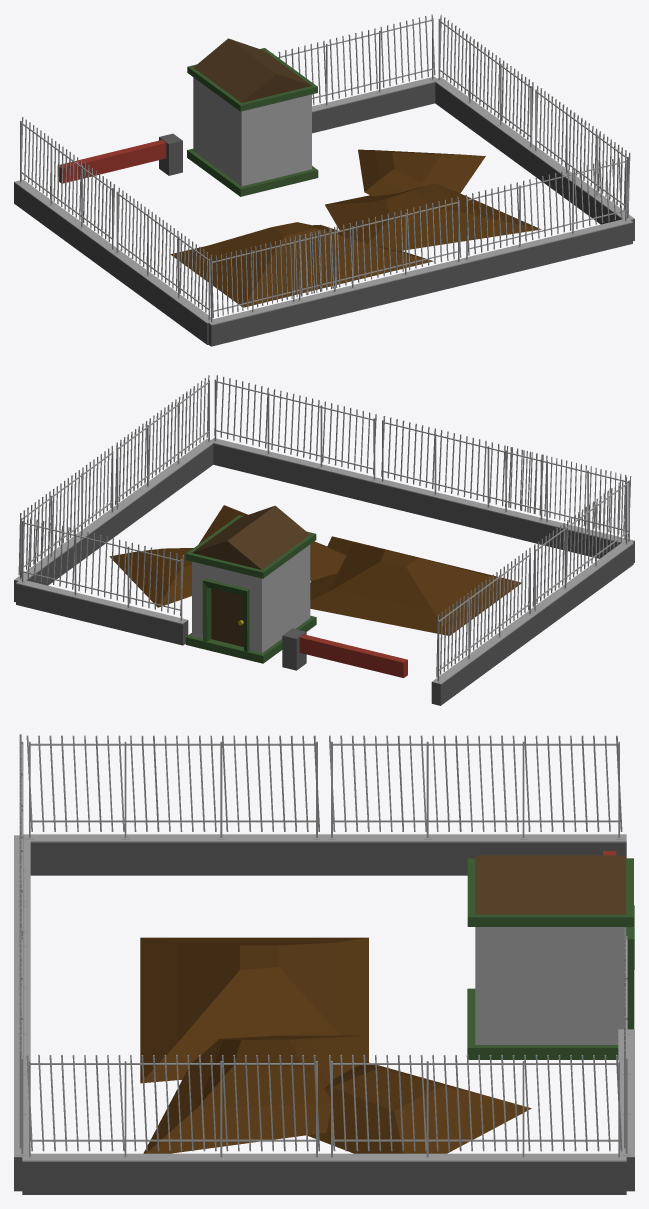
File: landfill.fbx
The picture shows the model from 3 angles, top to bottom: view 1: azimuth 30°, elevation 25°; view 2: azimuth 150°, elevation 25°; view 3: azimuth 270°, elevation 25°; orthographic projection. The views are drawn at different scales.
Parts seen in each view (by area): view 1: Cube, Plane.001, BagaPie_Fence.004, BagaPie_Fence.005, Plane, BagaPie_Fence.007, BagaPie_Fence.001, BagaPie_Fence.006, BagaPie_Fence.002, BagaPie_Fence.008, BagaPie_Fence.003, Plane.002 (+2 smaller); view 2: Cube, Plane.001, BagaPie_Fence.001, BagaPie_Fence.004, BagaPie_Fence.005, BagaPie_Fence.006, BagaPie_Fence.007, BagaPie_Fence.003, BagaPie_Fence.002, BagaPie_Fence.008, Plane.002, Cube.001 (+2 smaller); view 3: Cube, Plane.001, BagaPie_Fence.003, BagaPie_Fence.002, BagaPie_Fence.007, BagaPie_Fence.006, Plane, Plane.002, BagaPie_Fence.004, BagaPie_Fence.001, BagaPie_Fence.005, BagaPie_Fence.008.
Boxes of the visible parts, x1=… form: Cube: x1=187, y1=38, x2=318, y2=196; Plane.001: x1=170, y1=222, x2=433, y2=307; BagaPie_Fence.004: x1=461, y1=156, x2=632, y2=284; BagaPie_Fence.005: x1=296, y1=196, x2=465, y2=325; Plane: x1=325, y1=183, x2=541, y2=250; BagaPie_Fence.007: x1=110, y1=187, x2=215, y2=344; BagaPie_Fence.001: x1=273, y1=14, x2=437, y2=133; BagaPie_Fence.006: x1=14, y1=117, x2=119, y2=273; BagaPie_Fence.002: x1=434, y1=14, x2=537, y2=171; BagaPie_Fence.008: x1=207, y1=226, x2=340, y2=346; BagaPie_Fence.003: x1=529, y1=85, x2=634, y2=240; Plane.002: x1=358, y1=149, x2=485, y2=196; Cube: x1=185, y1=505, x2=316, y2=663; Plane.001: x1=310, y1=536, x2=521, y2=635; BagaPie_Fence.001: x1=16, y1=516, x2=188, y2=645; BagaPie_Fence.004: x1=211, y1=375, x2=380, y2=504; BagaPie_Fence.005: x1=376, y1=416, x2=546, y2=544; BagaPie_Fence.006: x1=431, y1=547, x2=537, y2=705; BagaPie_Fence.007: x1=528, y1=477, x2=633, y2=634; BagaPie_Fence.003: x1=111, y1=375, x2=213, y2=533; BagaPie_Fence.002: x1=14, y1=445, x2=119, y2=602; BagaPie_Fence.008: x1=500, y1=446, x2=634, y2=562; Plane.002: x1=109, y1=548, x2=193, y2=607; Cube.001: x1=299, y1=634, x2=407, y2=677; Cube: x1=467, y1=855, x2=634, y2=1059; Plane.001: x1=140, y1=937, x2=368, y2=1083; BagaPie_Fence.003: x1=22, y1=1054, x2=324, y2=1194; BagaPie_Fence.002: x1=324, y1=1054, x2=626, y2=1194; BagaPie_Fence.007: x1=23, y1=735, x2=324, y2=875; BagaPie_Fence.006: x1=324, y1=735, x2=626, y2=875; Plane: x1=143, y1=1035, x2=367, y2=1153; Plane.002: x1=308, y1=1062, x2=531, y2=1153; BagaPie_Fence.004: x1=14, y1=928, x2=30, y2=1191; BagaPie_Fence.001: x1=618, y1=928, x2=634, y2=1191; BagaPie_Fence.005: x1=14, y1=801, x2=30, y2=1029; BagaPie_Fence.008: x1=14, y1=734, x2=30, y2=933.
Bounding box in the file's own units: 1022 × 294 × 822.
